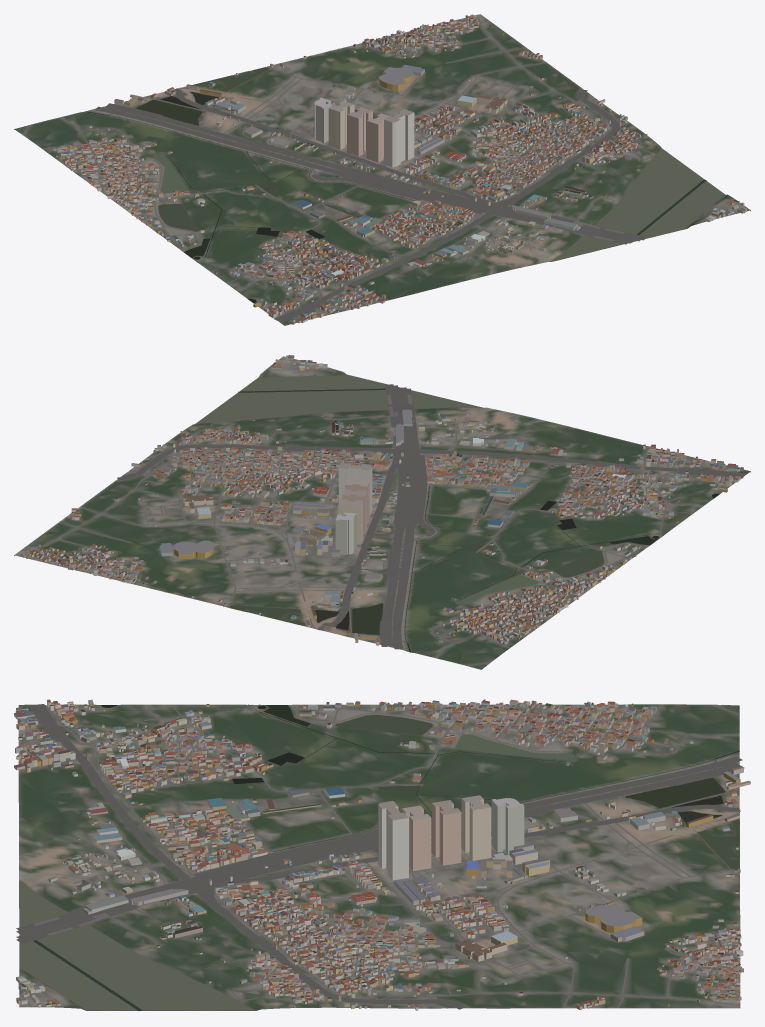
3 renders of one model, top to bottom at view 1: azimuth 30°, elevation 25°; view 2: azimuth 150°, elevation 25°; view 3: azimuth 270°, elevation 25°, orthographic. The views are drawn at different scales.
Parts seen in each view (by area): view 1: ground, buildings, roads, water; view 2: ground, buildings, roads, water; view 3: ground, buildings, roads, water.
Boxes of the visible parts, <box> form: ground: <box>14,14,750,325</box>; buildings: <box>52,14,746,324</box>; roads: <box>20,15,746,322</box>; water: <box>85,67,724,318</box>; ground: <box>14,356,750,669</box>; buildings: <box>21,355,743,645</box>; roads: <box>18,359,745,665</box>; water: <box>129,375,733,652</box>; ground: <box>18,704,740,1010</box>; buildings: <box>14,699,750,1010</box>; roads: <box>16,704,744,1009</box>; water: <box>18,704,739,1010</box>.
Bounding box in the file's own units: 1419 × 137 × 1433.
